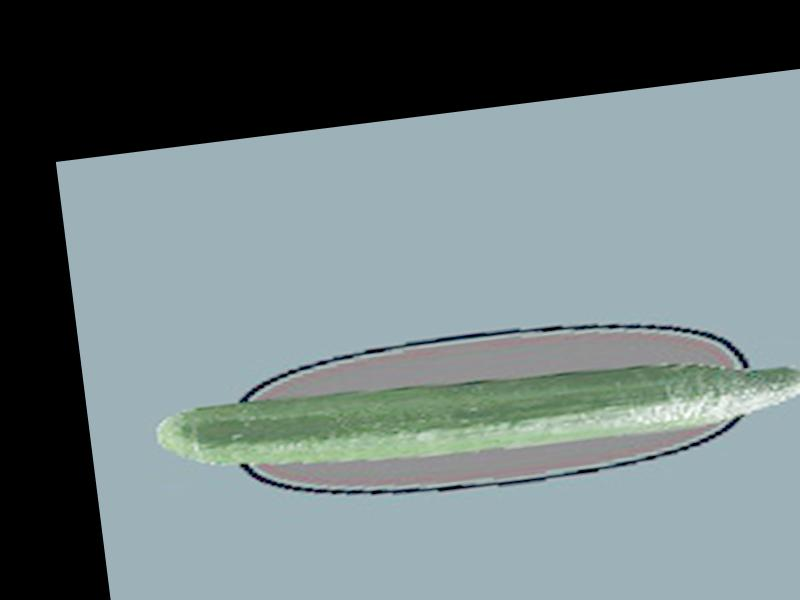Cucumber: (151, 327, 800, 491)
